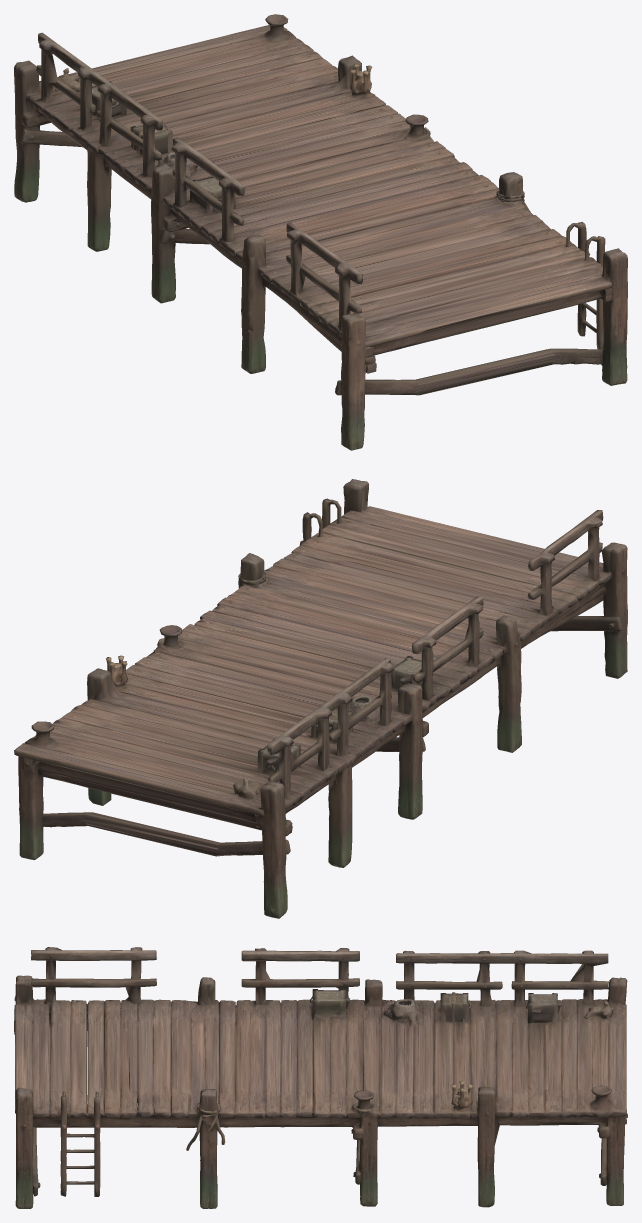
The model's file is ponton_large.glb.
The picture shows the model from 3 angles, top to bottom: view 1: azimuth 30°, elevation 25°; view 2: azimuth 150°, elevation 25°; view 3: azimuth 270°, elevation 25°; orthographic projection. The views are drawn at different scales.
Visible parts, largest first — view 1: tripo_node_671055a9-6a99-4970-abdb-9e97cb9678f7; view 2: tripo_node_671055a9-6a99-4970-abdb-9e97cb9678f7; view 3: tripo_node_671055a9-6a99-4970-abdb-9e97cb9678f7.
Boxes of the visible parts, x1=… form: tripo_node_671055a9-6a99-4970-abdb-9e97cb9678f7: x1=14, y1=14, x2=627, y2=450; tripo_node_671055a9-6a99-4970-abdb-9e97cb9678f7: x1=14, y1=479, x2=627, y2=918; tripo_node_671055a9-6a99-4970-abdb-9e97cb9678f7: x1=14, y1=947, x2=627, y2=1208.
Bounding box in the file's own units: 1.64 × 0.9061 × 3.42.
Materials: 1 (1 with a texture image).
